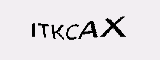І: (28, 22, 37, 38)
А: (76, 19, 98, 42)
К: (52, 24, 64, 41)
С: (66, 23, 79, 41)
Т: (38, 22, 50, 39)
Х: (97, 16, 129, 39)
